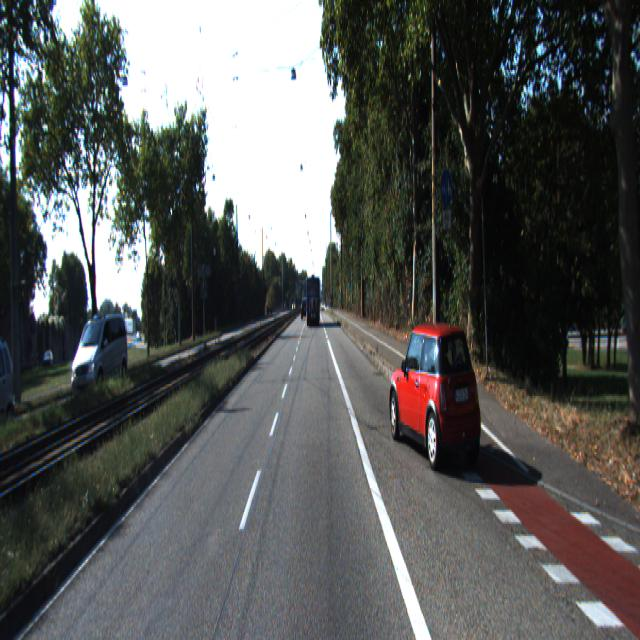Car: (386, 315, 484, 472), (70, 313, 130, 397), (306, 276, 321, 326)
